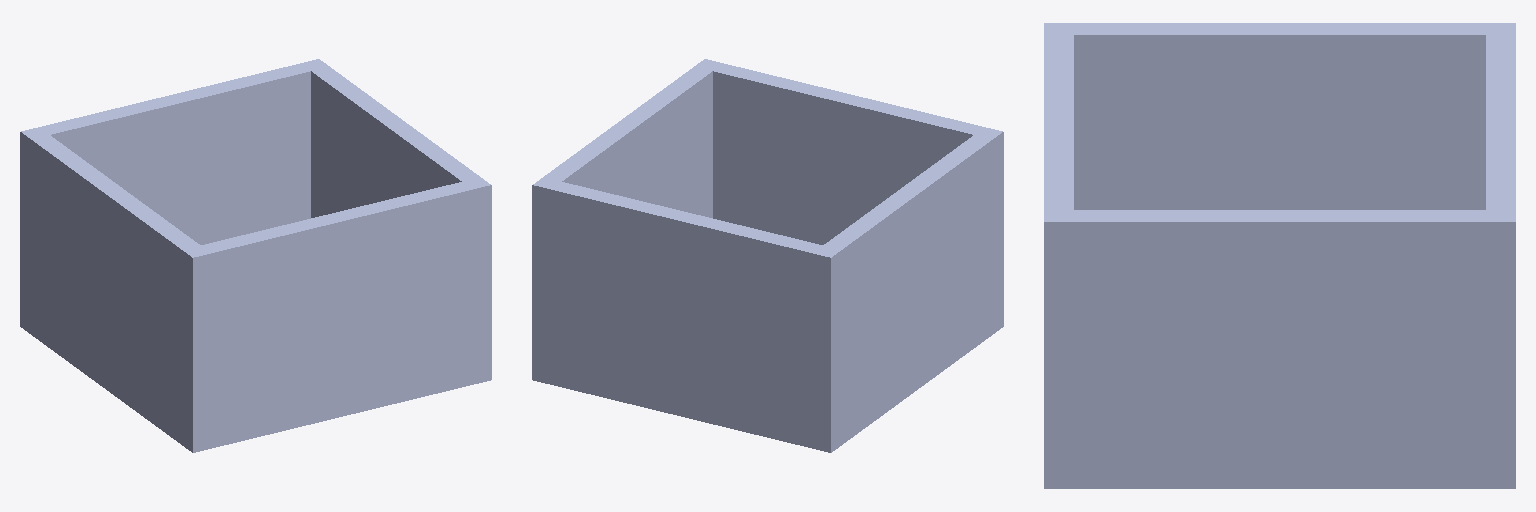
robot.urdf — box_store_model:
<?xml version="1.0" encoding="utf-8"?>
<!-- This URDF was automatically created by SolidWorks to URDF Exporter! Originally created by [author] ([email redacted]) 
     Commit Version: 1.6.0-1-g15f4949  Build Version: 1.6.7594.29634
     For more information, please see http://wiki.ros.org/sw_urdf_exporter -->
<robot
  name="box_store_model">
  <link
    name="box_link">
    <inertial>
      <origin
        xyz="-6.59194920871187E-17 1.73472347597681E-17 0.0170967741935484"
        rpy="0 0 0" />
      <mass
        value="0.124" />
      <inertia
        ixx="0.000118521505376344"
        ixy="-6.11931470619508E-21"
        ixz="9.53821289998762E-20"
        iyy="0.000118521505376344"
        iyz="-4.775704792252E-20"
        izz="0.000181266666666666" />
    </inertial>
    <visual>
      <origin
        xyz="0 0 0"
        rpy="0 0 0" />
      <geometry>
        <mesh
          filename="package://box_model/meshes/box_link.STL" />
      </geometry>
      <material
        name="">
        <color
          rgba="0.792156862745098 0.819607843137255 0.933333333333333 1" />
      </material>
    </visual>
    <collision>
      <origin
        xyz="0 0 0"
        rpy="0 0 0" />
      <geometry>
        <mesh
          filename="package://box_model/meshes/box_link.STL" />
      </geometry>
      <surface>
        <friction>
          <ode>
            <mu>0.2</mu>
            <mu2>0.2</mu2>
          </ode>
        </friction>
      </surface>
    </collision>
  </link>

  <gazebo 
    reference="box_link">
    <material>Gazebo/Grey</material>
  </gazebo>

</robot>

--- Render facts (derived) ---
The picture shows the robot from 3 angles, left to right: view 1: azimuth 30°, elevation 25°; view 2: azimuth 150°, elevation 25°; view 3: azimuth 270°, elevation 25°; orthographic projection.
Model box_store_model with 1 links and 0 joints (none), rooted at box_link, posed every joint at zero.
Visible links, largest first — view 1: box_link; view 2: box_link; view 3: box_link.
Boxes of the visible links, x1,y1,x2,y2 form: box_link: (20, 59, 491, 452); box_link: (532, 59, 1003, 452); box_link: (1044, 23, 1515, 488).
Bounding box of the posed robot: 0.08 × 0.08 × 0.05 m (x, y, z).
1 mesh visuals loaded from 1 distinct referenced files (1 binary STL).